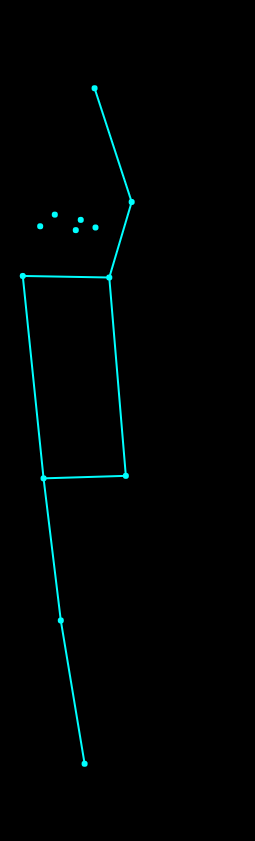tree: (4, 73, 150, 781)
